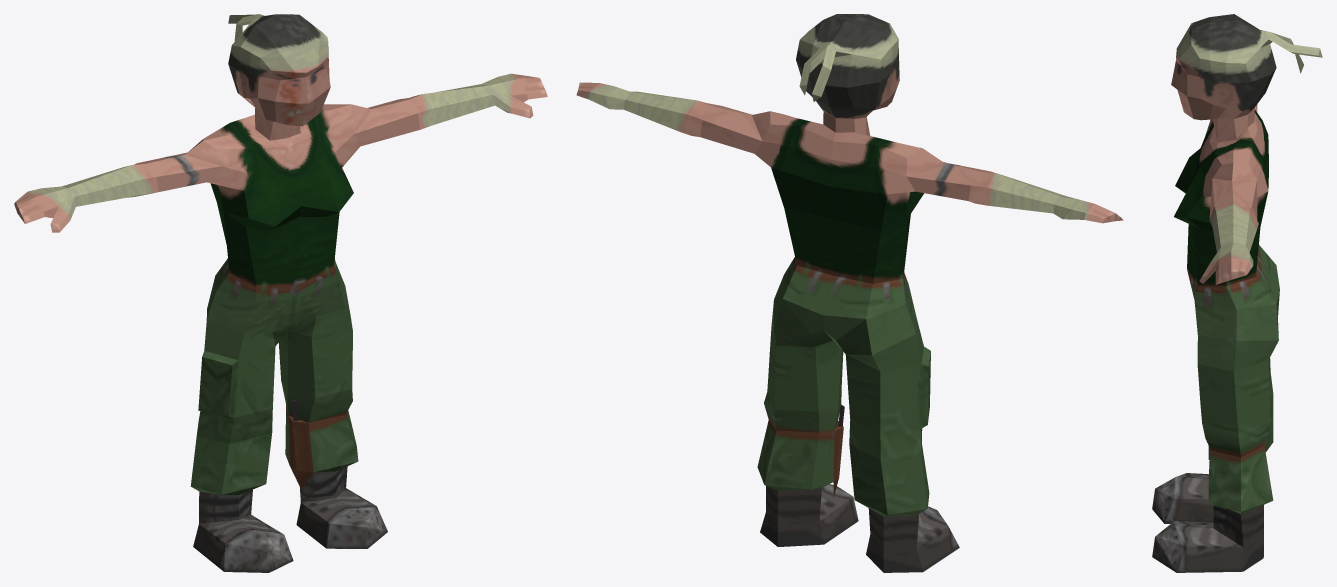
The model's file is SK_MainCharacter_old.fbx.
The picture shows the model from 3 angles, left to right: view 1: azimuth 30°, elevation 25°; view 2: azimuth 150°, elevation 25°; view 3: azimuth 270°, elevation 25°; orthographic projection. The views are drawn at different scales.
Visible parts, largest first — view 1: SK_MainCharacter; view 2: SK_MainCharacter; view 3: SK_MainCharacter.
Boxes of the visible parts, <box> form: SK_MainCharacter: <box>14,14,547,572</box>; SK_MainCharacter: <box>576,14,1123,572</box>; SK_MainCharacter: <box>1152,14,1322,572</box>.
Bounding box in the file's own units: 43.67 × 41.16 × 12.41.
1 material, 1 textured.
